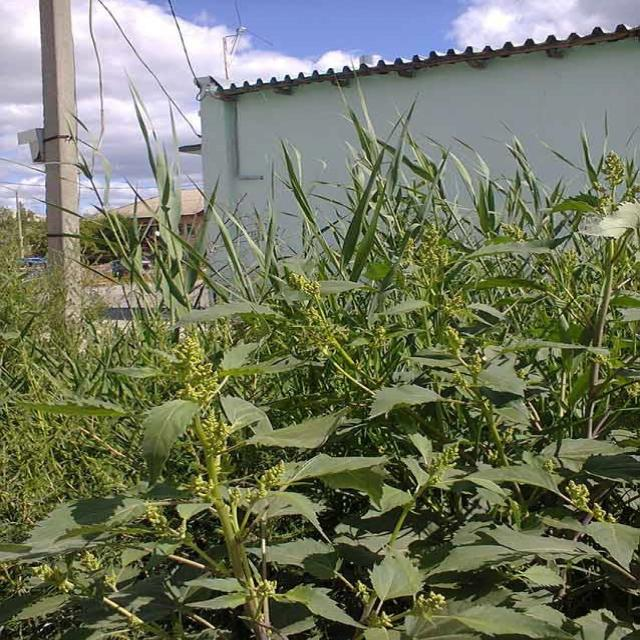ambrosia: (142, 324, 273, 640), (269, 251, 495, 404), (539, 148, 640, 319)
